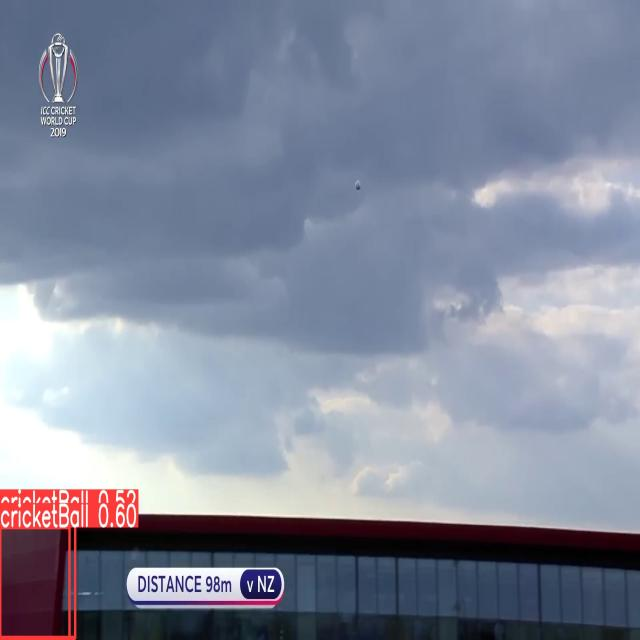ball: (354, 178, 361, 193)
